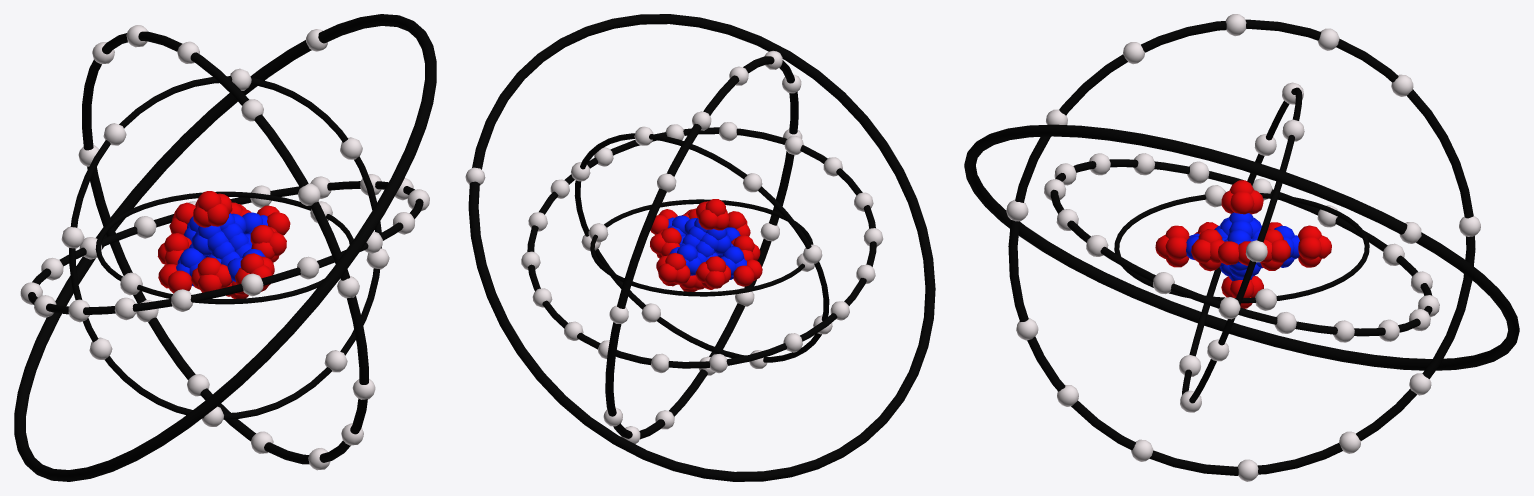
File: 44 Rutenio.fbx
3 views of the same model, side by side, from view 1: azimuth 30°, elevation 25°; view 2: azimuth 150°, elevation 25°; view 3: azimuth 270°, elevation 25° (orthographic). The views are drawn at different scales.
Parts seen in each view (by area): view 1: Orbita.005, Nucleo.004, Orbita.004, Orbita.002, Orbita.003, Orbita.001; view 2: Orbita.005, Nucleo.004, Orbita.004, Orbita.003, Orbita.002, Orbita.001; view 3: Orbita.005, Orbita.004, Nucleo.004, Orbita.003, Orbita.002, Orbita.001.
Boxes of the visible parts, box(x1,y1,x2,y2) form: Orbita.005: box(14, 14, 436, 481); Nucleo.004: box(157, 191, 290, 298); Orbita.004: box(82, 31, 368, 464); Orbita.002: box(69, 76, 381, 419); Orbita.003: box(28, 181, 423, 314); Orbita.001: box(95, 191, 353, 304); Orbita.005: box(468, 14, 935, 481); Nucleo.004: box(650, 199, 762, 291); Orbita.004: box(605, 56, 798, 439); Orbita.003: box(527, 127, 876, 368); Orbita.002: box(574, 133, 829, 362); Orbita.001: box(590, 199, 813, 296); Orbita.005: box(964, 124, 1519, 370); Orbita.004: box(1008, 19, 1475, 475); Nucleo.004: box(1155, 180, 1331, 308); Orbita.003: box(1050, 159, 1432, 336); Orbita.002: box(1182, 87, 1302, 403); Orbita.001: box(1114, 193, 1369, 303).
Size of the model in its own units: 16.85 by 13.66 by 14.3.
